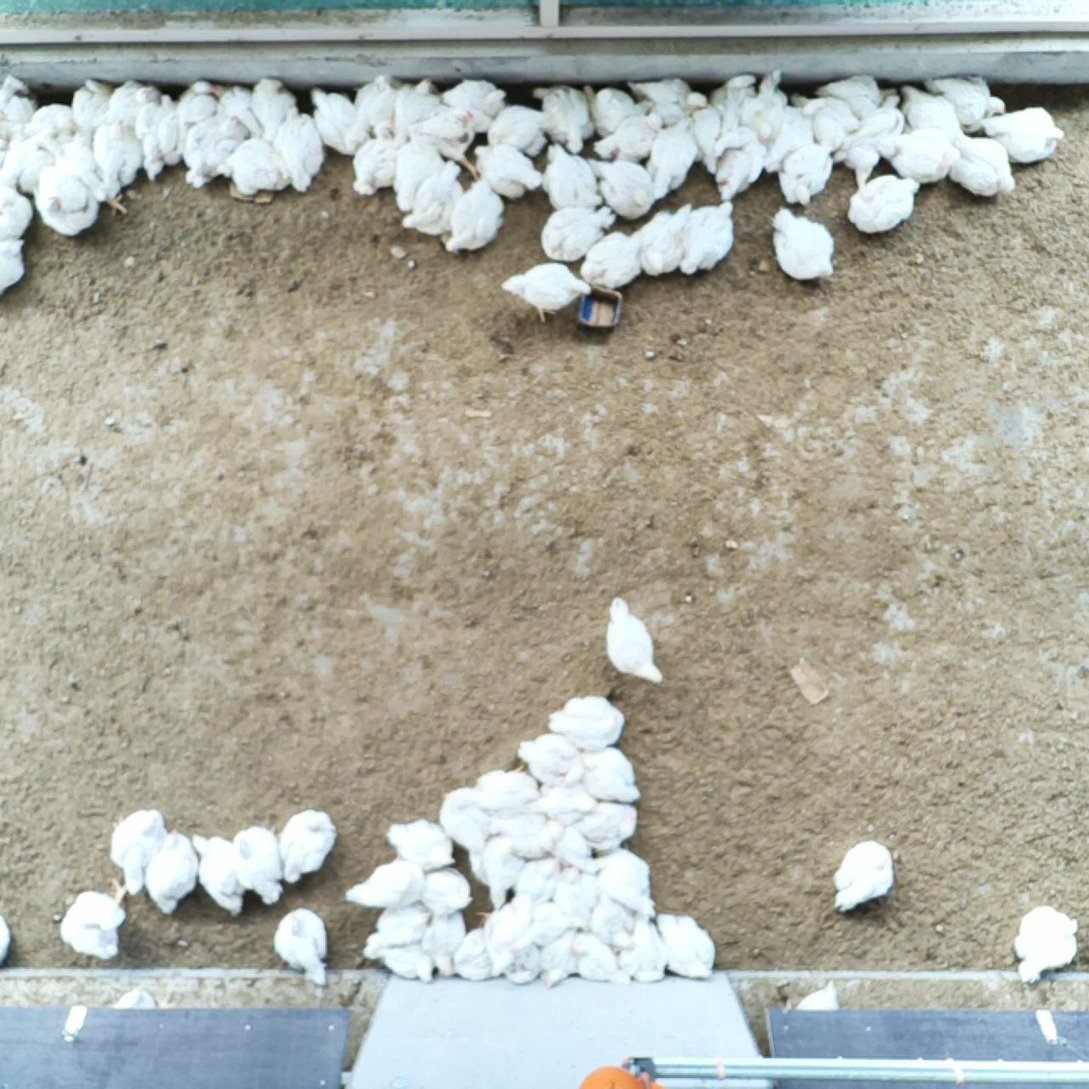chicken: (831, 90, 897, 188), (409, 101, 483, 182), (59, 877, 132, 958), (501, 260, 595, 321), (139, 828, 201, 919), (108, 806, 170, 896), (185, 111, 254, 190), (602, 593, 663, 681), (983, 103, 1065, 167), (363, 893, 439, 962), (209, 135, 293, 197), (403, 162, 464, 246), (533, 81, 602, 155), (185, 831, 245, 916), (633, 200, 693, 284), (1016, 903, 1078, 984), (770, 206, 835, 282), (391, 123, 444, 215), (31, 168, 102, 236), (925, 72, 1004, 133), (273, 908, 331, 991), (538, 202, 619, 261), (545, 692, 626, 751), (833, 838, 896, 913), (846, 172, 922, 234), (653, 907, 716, 981), (278, 808, 340, 883), (587, 846, 655, 914), (470, 828, 525, 911), (897, 83, 970, 144), (581, 230, 646, 298), (136, 92, 184, 184), (712, 126, 767, 204), (306, 85, 369, 153), (276, 105, 324, 194), (450, 177, 504, 256), (234, 824, 286, 906), (681, 197, 736, 274), (487, 889, 534, 979), (594, 110, 668, 166), (792, 87, 861, 147), (651, 114, 699, 200), (952, 135, 1014, 201), (582, 84, 655, 140), (574, 744, 641, 805), (760, 107, 819, 176), (517, 732, 587, 790), (344, 854, 422, 906), (742, 69, 796, 144), (90, 120, 143, 195), (488, 102, 558, 158), (355, 120, 406, 196), (821, 72, 907, 117), (777, 139, 832, 208), (473, 144, 542, 199), (888, 129, 958, 182), (0, 132, 57, 197), (52, 139, 108, 204), (204, 81, 266, 138), (440, 786, 495, 850), (630, 75, 708, 120), (570, 929, 630, 987), (468, 765, 539, 814), (495, 807, 562, 858), (425, 904, 467, 981), (569, 805, 640, 850), (708, 70, 753, 140), (530, 782, 600, 827), (624, 920, 670, 988), (104, 81, 152, 146), (247, 78, 299, 137), (457, 918, 505, 981), (72, 78, 120, 140), (690, 99, 729, 175), (386, 822, 454, 865), (539, 815, 591, 871), (352, 74, 401, 133), (528, 898, 589, 945), (540, 927, 585, 990), (584, 889, 630, 950), (415, 867, 474, 914), (371, 938, 434, 982), (548, 862, 596, 918), (512, 851, 558, 908), (441, 79, 508, 117), (161, 103, 202, 165), (0, 164, 31, 244), (396, 77, 436, 136), (178, 78, 229, 124), (30, 105, 76, 151), (500, 932, 539, 986), (0, 71, 33, 134), (0, 235, 29, 297), (0, 910, 12, 963)
